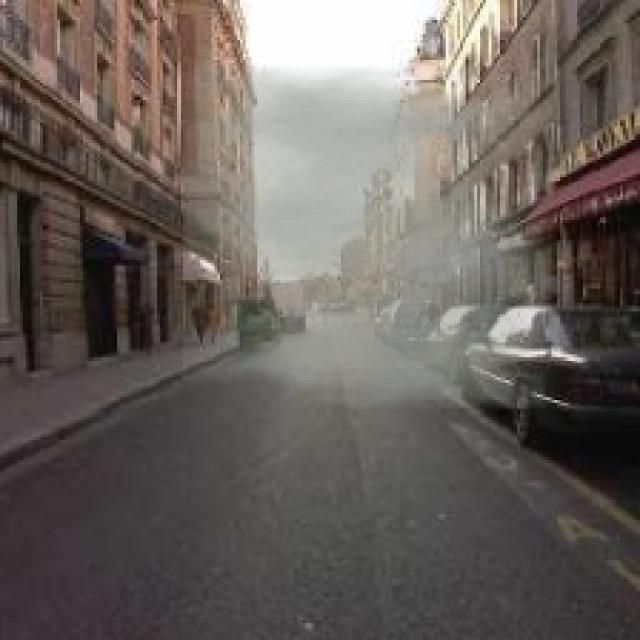Smoke: (183, 66, 552, 408)
